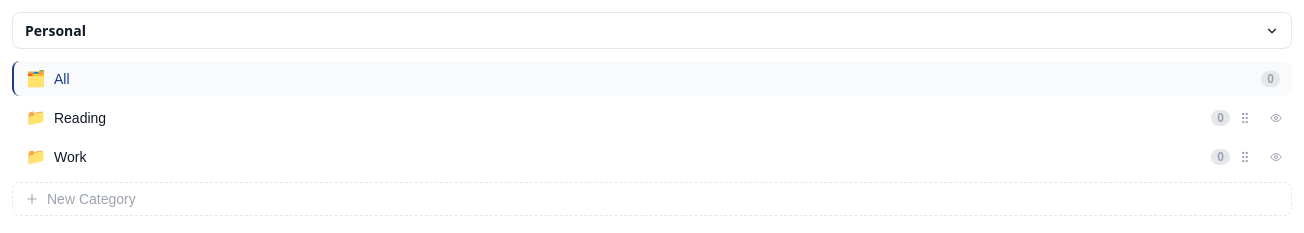
Test: CategoryList › opens the workspace dropdown and lists workspaces
Step 1. Click the button with aria-label "Current workspace: Personal" → [55, 30], box [12, 12, 1292, 49]
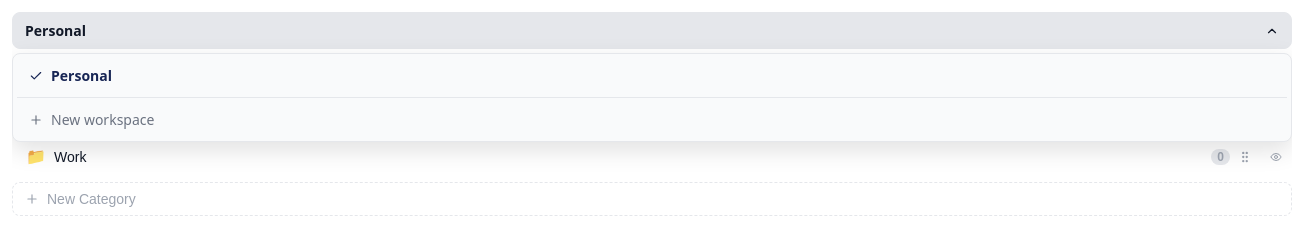
Expected: the menu named "Workspaces" is shown, [12, 53, 1292, 142]
